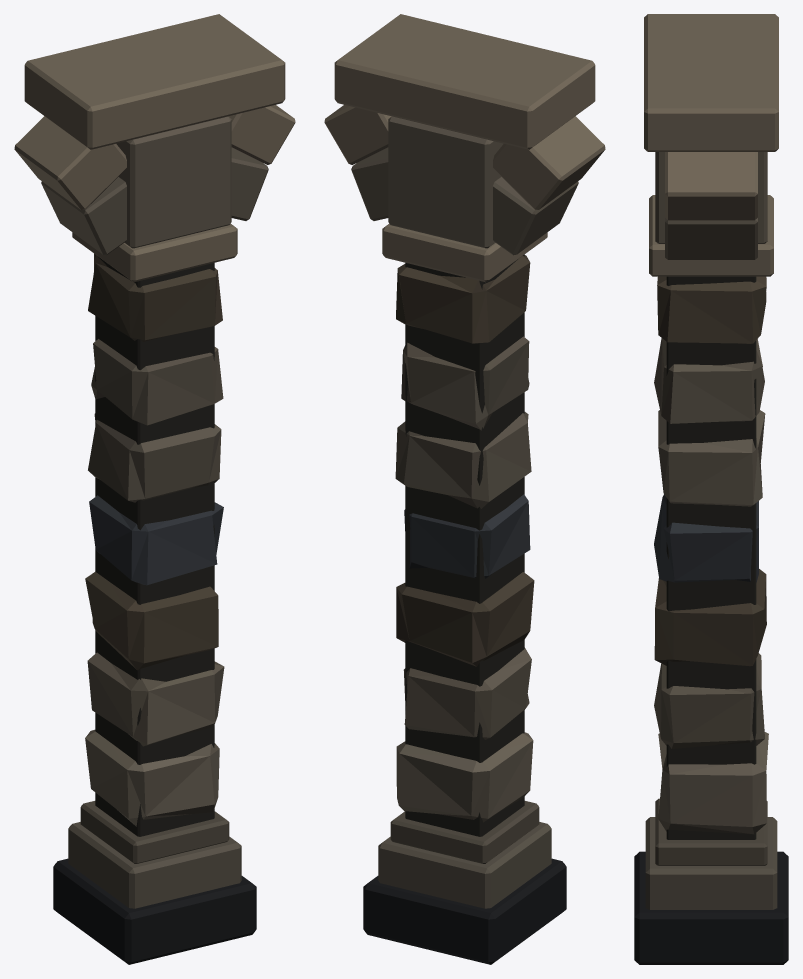
File: mod_stone_arch_pillar_3m.glb
The picture shows the model from 3 angles, left to right: view 1: azimuth 30°, elevation 25°; view 2: azimuth 150°, elevation 25°; view 3: azimuth 270°, elevation 25°; orthographic projection.
Parts seen in each view (by area): view 1: Mod_Stone_Arch_Pillar_3m; view 2: Mod_Stone_Arch_Pillar_3m; view 3: Mod_Stone_Arch_Pillar_3m.
Part boxes in pixels (x1,y1,x2,y2): Mod_Stone_Arch_Pillar_3m: [14, 14, 295, 964]; Mod_Stone_Arch_Pillar_3m: [324, 14, 605, 964]; Mod_Stone_Arch_Pillar_3m: [634, 14, 788, 964].
Size of the model in its own units: 0.8662 by 3 by 0.48.
